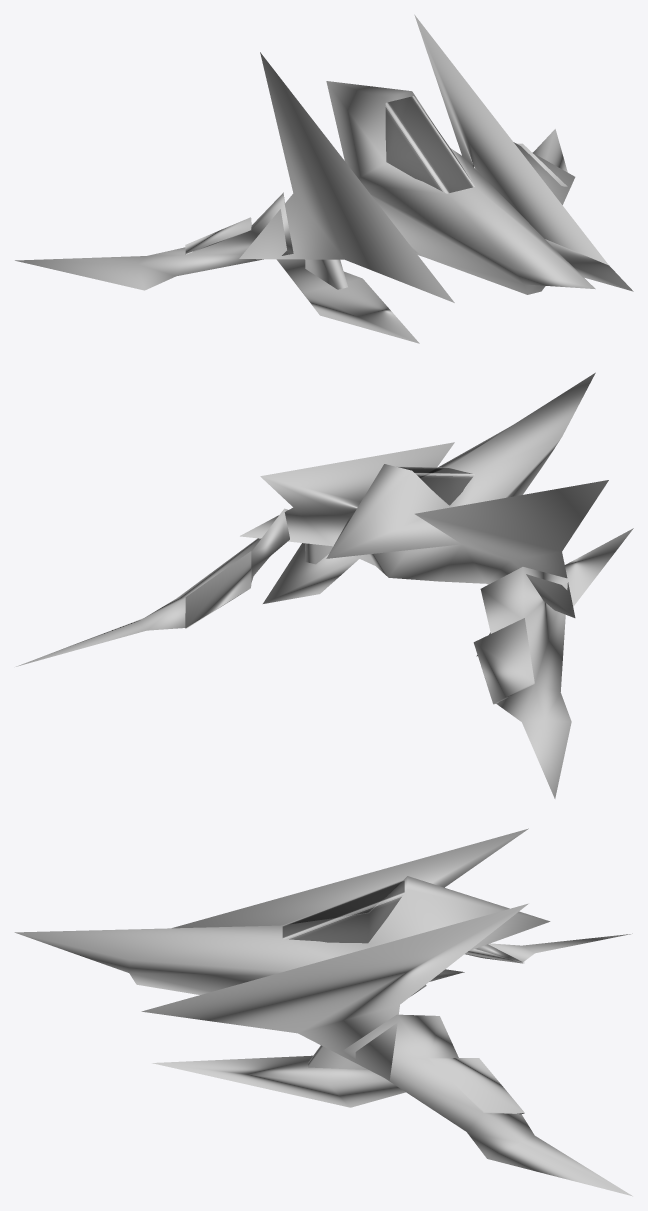
The model's file is arwingNew59.obj.
The picture shows the model from 3 angles, top to bottom: view 1: azimuth 30°, elevation 25°; view 2: azimuth 150°, elevation 25°; view 3: azimuth 270°, elevation 25°; orthographic projection.
Visible parts, largest first — view 1: Arwing.002; view 2: Arwing.002; view 3: Arwing.002.
Part boxes in pixels (left/top/right/bottom): Arwing.002: left=15, top=14, right=633, bottom=343; Arwing.002: left=16, top=372, right=633, bottom=798; Arwing.002: left=14, top=828, right=632, bottom=1196.
Size of the model in its own units: 6.08 by 2.15 by 6.06.
